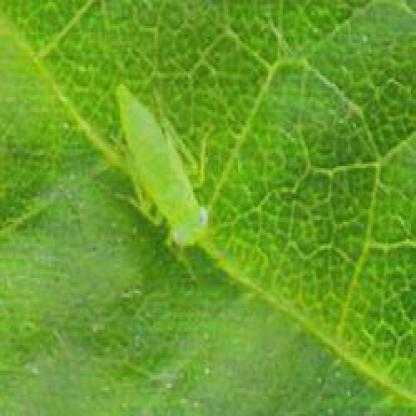Green-Leafhopper: (109, 83, 227, 277)
